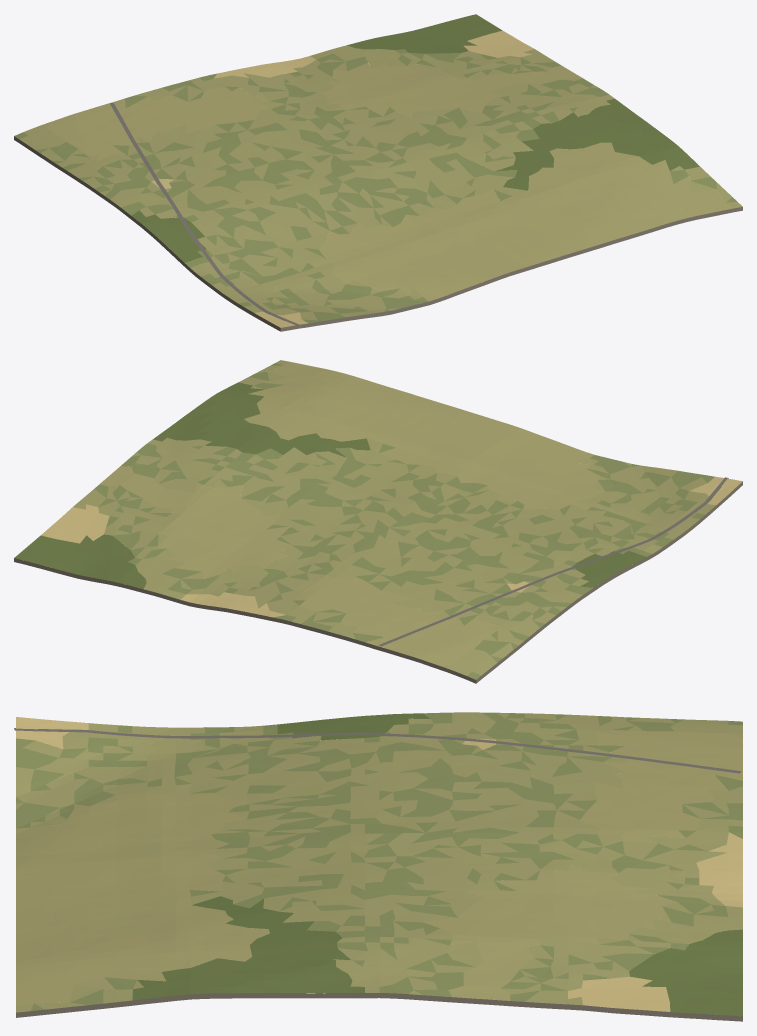
Rendered from parca_-3_-4-uzak.glb.
3 renders of one model, top to bottom at view 1: azimuth 30°, elevation 25°; view 2: azimuth 150°, elevation 25°; view 3: azimuth 270°, elevation 25°, orthographic. The views are drawn at different scales.
Visible parts, largest first — view 1: parca_-3_-4_arazi_uzak, parca_-3_-4_yollar_uzak; view 2: parca_-3_-4_arazi_uzak, parca_-3_-4_yollar_uzak; view 3: parca_-3_-4_arazi_uzak, parca_-3_-4_yollar_uzak.
Boxes of the visible parts, bbox=[...] form: parca_-3_-4_arazi_uzak: bbox=[14, 14, 742, 331]; parca_-3_-4_yollar_uzak: bbox=[110, 103, 299, 325]; parca_-3_-4_arazi_uzak: bbox=[14, 360, 742, 683]; parca_-3_-4_yollar_uzak: bbox=[379, 477, 728, 646]; parca_-3_-4_arazi_uzak: bbox=[16, 712, 742, 1021]; parca_-3_-4_yollar_uzak: bbox=[14, 728, 741, 773].
Bounding box in the file's own units: 1000 × 78.31 × 1003.
